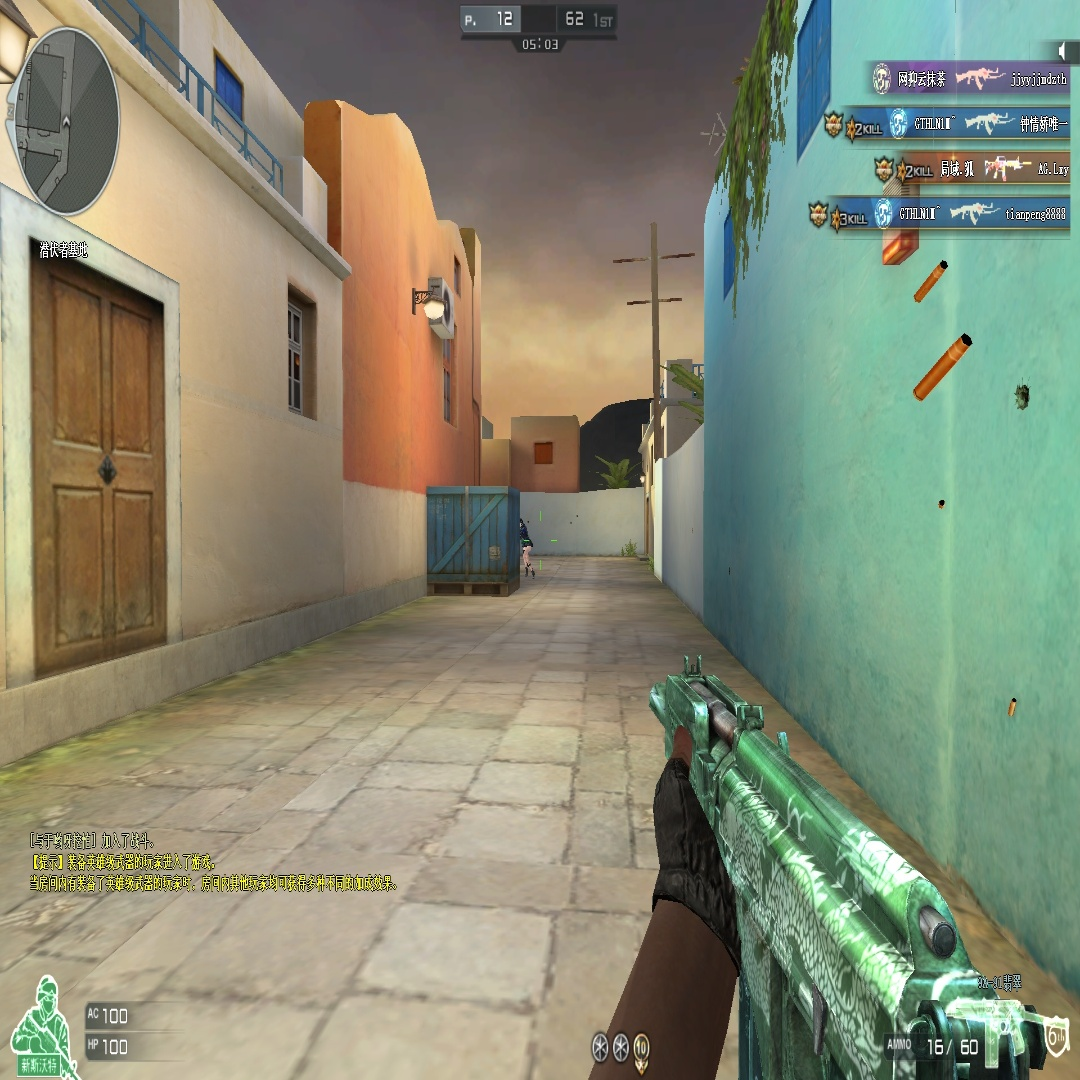p: (520, 516, 537, 580)
